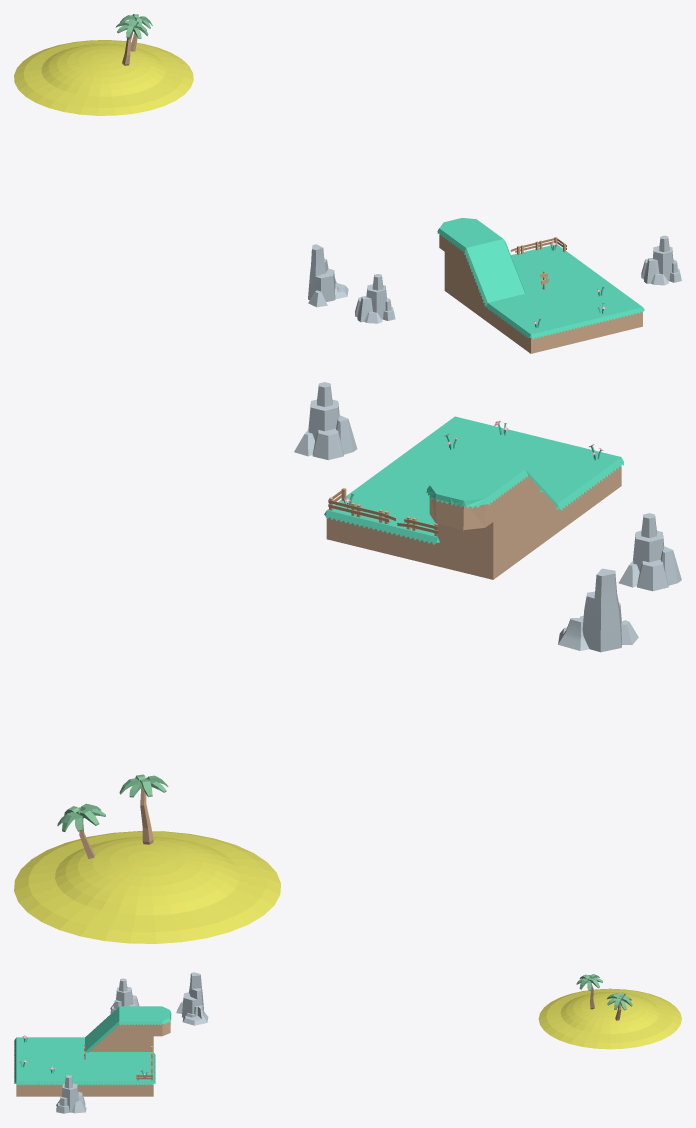
File: DemoWorld.glb
The picture shows the model from 3 angles, top to bottom: view 1: azimuth 30°, elevation 25°; view 2: azimuth 150°, elevation 25°; view 3: azimuth 270°, elevation 25°; orthographic projection. The views are drawn at different scales.
Parts seen in each view (by area): view 1: Sphere, blockLarge.004, blockLarge.006, blockLarge.003, formationLarge_stone, formation_stone, formation_stone.001, blockLarge.002, blockLarge.013, blockLarge.005, blockLarge.009, blockLarge.001 (+6 smaller); view 2: Sphere, formationLarge_stone, blockLarge.007, formation_stone, formation_stone.001, blockLarge.013, blockLarge.004, blockCornerSmall.001, blockLarge.011, blockLarge.002, blockLarge.006, blockLarge.003 (+5 smaller); view 3: Sphere, blockLarge.003, blockLarge.013, blockLarge.009, blockLarge.007, formationLarge_stone, blockLarge.001, formation_stone.001, blockLarge.004, blockLarge.006, blockCornerSmall.001, blockLarge.011 (+11 smaller).
Boxes of the visible parts, x1,y1,x2,y2 form: Sphere: (14,40,193,115); blockLarge.004: (507,309,568,353); blockLarge.006: (547,300,606,344); blockLarge.003: (584,291,644,335); formationLarge_stone: (308,244,348,307); formation_stone: (355,274,395,323); formation_stone.001: (641,235,681,285); blockLarge.002: (486,294,546,337); blockLarge.013: (443,223,502,267); blockLarge.005: (525,284,583,309); blockLarge.009: (541,260,599,284); blockLarge.001: (563,275,620,300); Sphere: (14,831,280,943); formationLarge_stone: (558,568,638,652); blockLarge.007: (324,487,413,552); formation_stone: (618,513,681,591); formation_stone.001: (294,382,357,460); blockLarge.013: (438,456,527,521); blockLarge.004: (534,443,623,508); blockCornerSmall.001: (426,479,495,530); blockLarge.011: (381,500,439,566); blockLarge.002: (528,467,591,532); blockLarge.006: (479,430,565,466); blockLarge.003: (423,416,509,453); Sphere: (538,988,681,1049); blockLarge.003: (14,1066,50,1096); blockLarge.013: (119,1006,153,1036); blockLarge.009: (85,1066,119,1096); blockLarge.007: (119,1066,155,1096); formationLarge_stone: (176,972,208,1025); blockLarge.001: (50,1066,84,1096); formation_stone.001: (56,1075,86,1113); blockLarge.004: (14,1037,50,1054); blockLarge.006: (14,1052,50,1068); blockCornerSmall.001: (153,1006,171,1036); blockLarge.011: (119,1052,155,1068).
Bounding box in the file's own units: 33.44 × 7.93 × 77.82.
